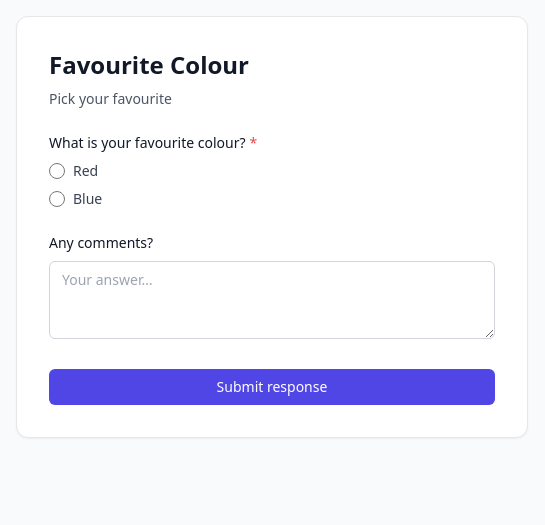
Test case: PollPage › shows duplicate error on 409
Expected: the heading "Favourite Colour" is shown, 49,48 -> 249,81
Click the radio button labelled "Red". click: (57, 171)
box: 49,163 -> 65,179
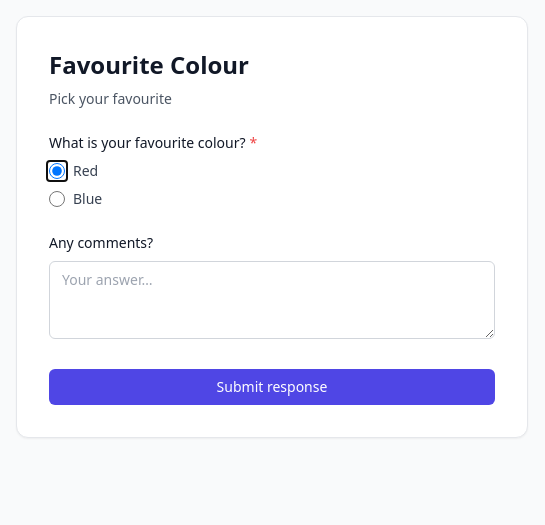
Click the button "Submit response". click: (272, 387)
box: 49,369 -> 495,405
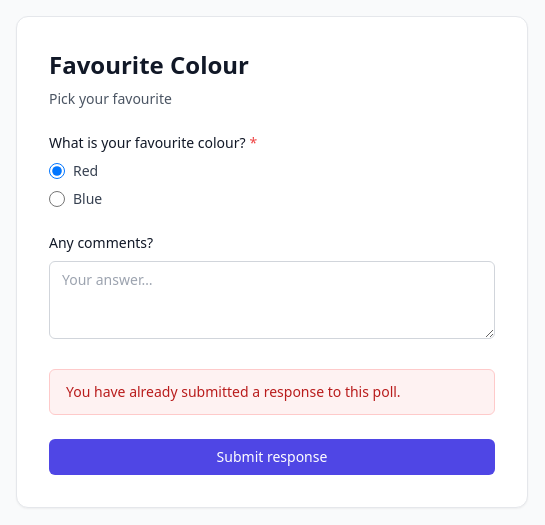
Expected: the heading "Favourite Colour" is shown, 49,48 -> 249,81
Result: the text "You have already submitted a response to this poll." is shown at 49,369 -> 495,415
